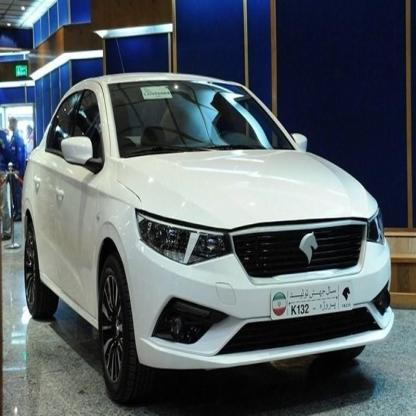Car: (21, 70, 396, 389)
